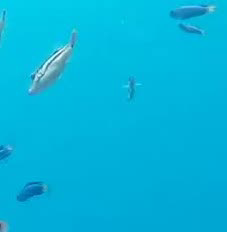hugu: (19, 28, 82, 98)
